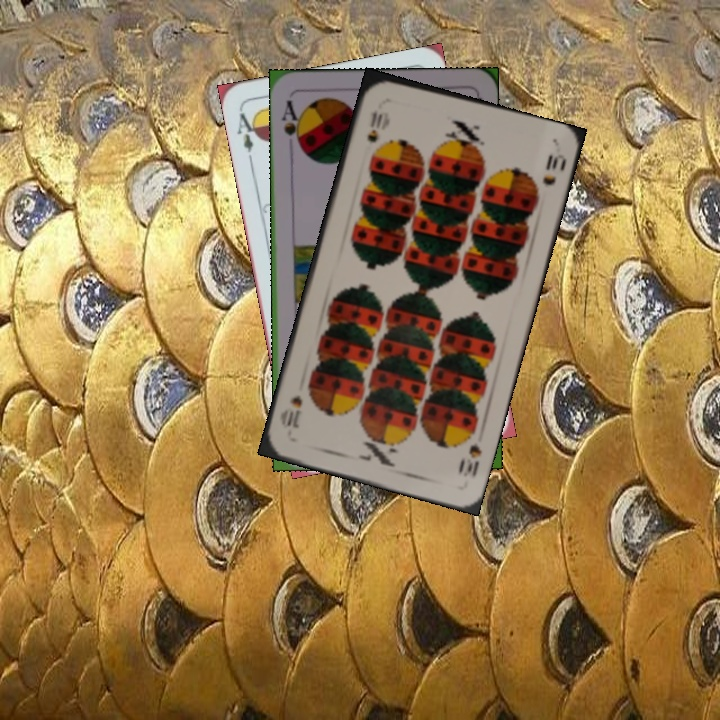EA: (233, 106, 262, 155)
S10: (454, 440, 485, 480), (363, 107, 385, 145)
SA: (278, 96, 304, 154)
